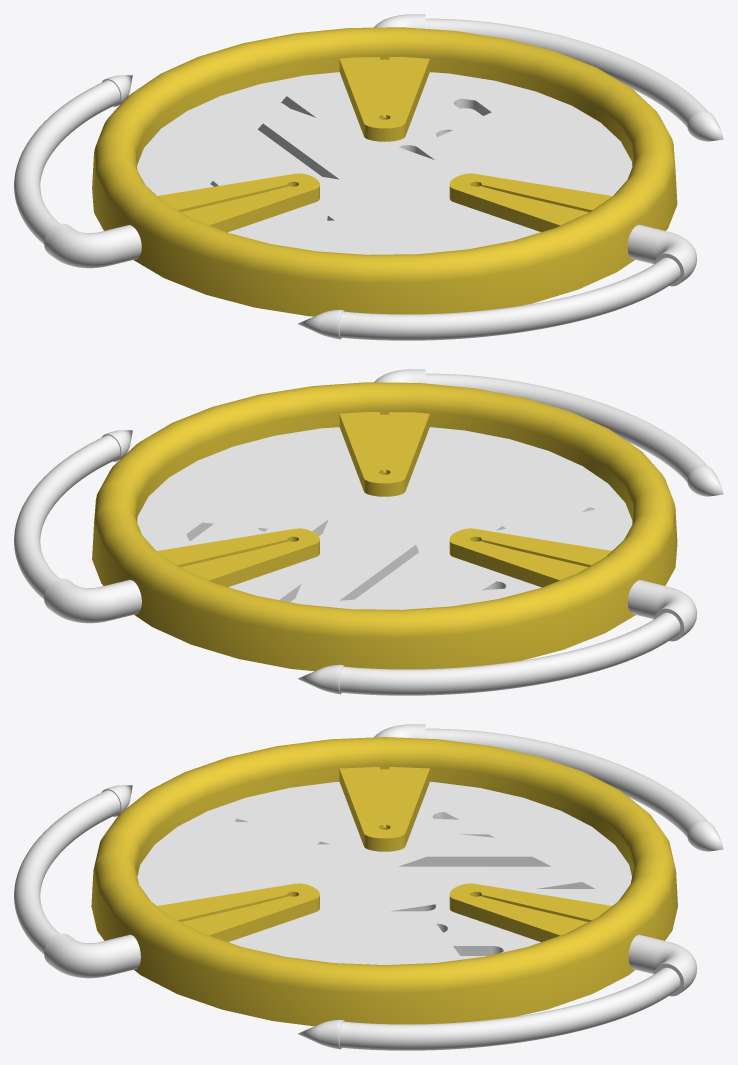
File: hologran projector.fbx
3 renders of one model, top to bottom at view 1: azimuth 30°, elevation 25°; view 2: azimuth 150°, elevation 25°; view 3: azimuth 270°, elevation 25°, orthographic.
Visible parts, largest first — view 1: hologram projector; view 2: hologram projector; view 3: hologram projector.
Boxes of the visible parts, box(x1,y1,x2,y2) form: hologram projector: box(14, 14, 723, 340); hologram projector: box(14, 369, 723, 695); hologram projector: box(14, 724, 723, 1050).
Bounding box in the file's own units: 249 × 20 × 242.
